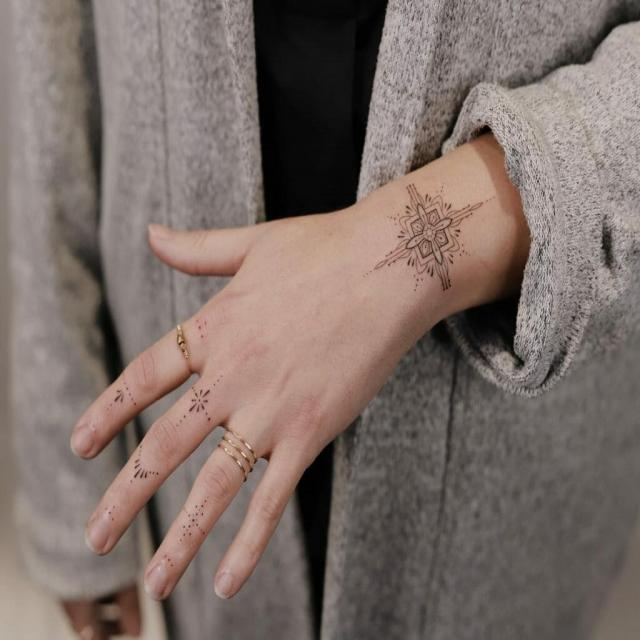bare_hand: (70, 197, 467, 599)
